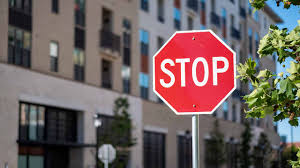stop sign: (152, 29, 237, 116)
